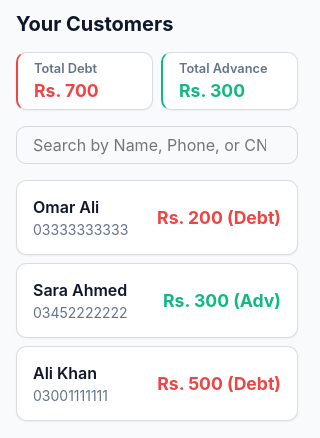
Test: CustomerList › Balance filter › advance filter shows only non-positive-balance customers
What coordinates should you click on to do the following:
click the button with aria-label "Filter customers with advance or settled balance"
I would click on:
 (230, 80)
Its box is [161,52,298,110].
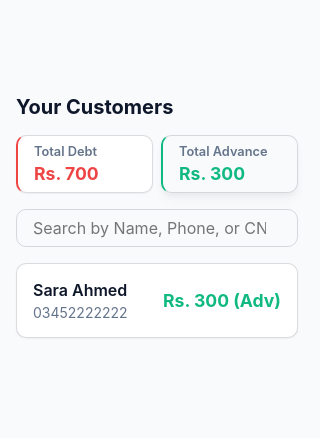
Expected: the button "Sara Ahmed 03452222222 Rs. 300 (Adv)" is shown, [16,262,298,338]
Expected: the button "Ali Khan" is gone
Expected: the button "Omar Ali" is gone
